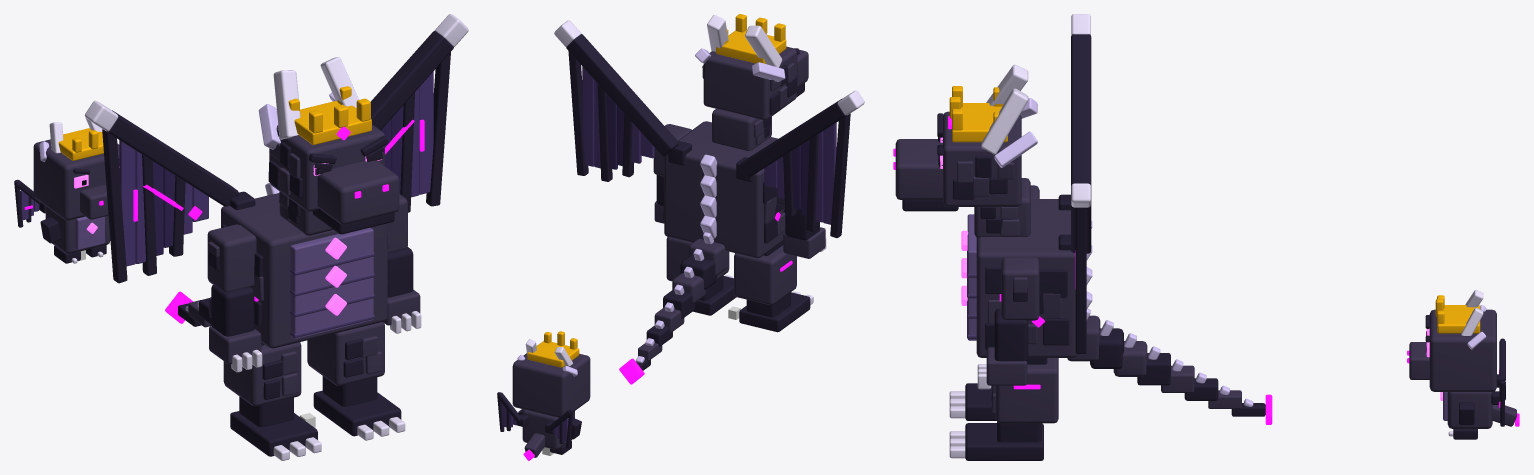
Rendered from Restyle_B10.fbx.
3 renders of one model, left to right at view 1: azimuth 30°, elevation 25°; view 2: azimuth 150°, elevation 25°; view 3: azimuth 270°, elevation 25°, orthographic. The views are drawn at different scales.
Parts seen in each view (by area): view 1: B10__Body, B10__RightWing, B10__Head, B10__Body_Belly, B10__LeftWing, P10__Head, B10__LeftLeg_ScalesDark, B10__RightLeg_ScalesDark, B10__RightWing_Wing, B10__LeftLeg, B10__RightLeg, B10__RightUpperArm (+27 smaller); view 2: B10__Body, B10__LeftWing, B10__RightWing, B10__Head, P10__Head, B10__RightLeg, B10__RightWing_Wing, B10__LeftWing_Wing, B10__Tail, B10__RightLeg_ScalesDark, B10__Tail_ScalesDark, B10__Head_Crown (+20 smaller); view 3: B10__Body, B10__Head, P10__Head, B10__RightWing, B10__LeftLeg, B10__LeftLeg_ScalesDark, B10__Tail, B10__Tail_ScalesDark, B10__Body_ScalesDark, B10__LeftWing, B10__LeftUpperArm, B10__Head_Horn (+11 smaller).
Boxes of the visible parts, x1,y1,x2,y2 form: B10__Body: (221,192,387,348); B10__RightWing: (102,110,255,283); B10__Head: (269,124,399,224); B10__Body_Belly: (290,227,373,339); B10__LeftWing: (370,30,453,212); P10__Head: (33,139,119,220); B10__LeftLeg_ScalesDark: (313,338,401,436); B10__RightLeg_ScalesDark: (230,342,317,456); B10__RightWing_Wing: (119,140,208,266); B10__LeftLeg: (307,322,384,385); B10__RightLeg: (223,342,301,406); B10__RightUpperArm: (207,224,256,291); B10__Body: (664,109,785,258); B10__LeftWing: (566,34,691,181); B10__RightWing: (736,98,850,237); B10__Head: (702,46,808,120); P10__Head: (512,353,590,417); B10__RightLeg: (734,245,796,305); B10__RightWing_Wing: (764,122,836,224); B10__LeftWing_Wing: (582,67,654,168); B10__Tail: (638,238,728,360); B10__RightLeg_ScalesDark: (739,241,810,332); B10__Tail_ScalesDark: (636,255,716,370); B10__Head_Crown: (716,14,786,63); B10__Body: (974,178,1077,357); B10__Head: (895,111,1021,206); P10__Head: (1409,309,1496,391); B10__RightWing: (1058,34,1091,210); B10__LeftLeg: (991,358,1058,423); B10__LeftLeg_ScalesDark: (965,358,1047,460); B10__Tail: (1067,315,1241,408); B10__Tail_ScalesDark: (1090,328,1265,416); B10__Body_ScalesDark: (980,207,1069,349); B10__LeftWing: (1058,191,1091,353); B10__LeftUpperArm: (1001,257,1039,320); B10__Head_Horn: (981,64,1028,154).
Size of the model in its own units: 3781 by 3505 by 5570.
